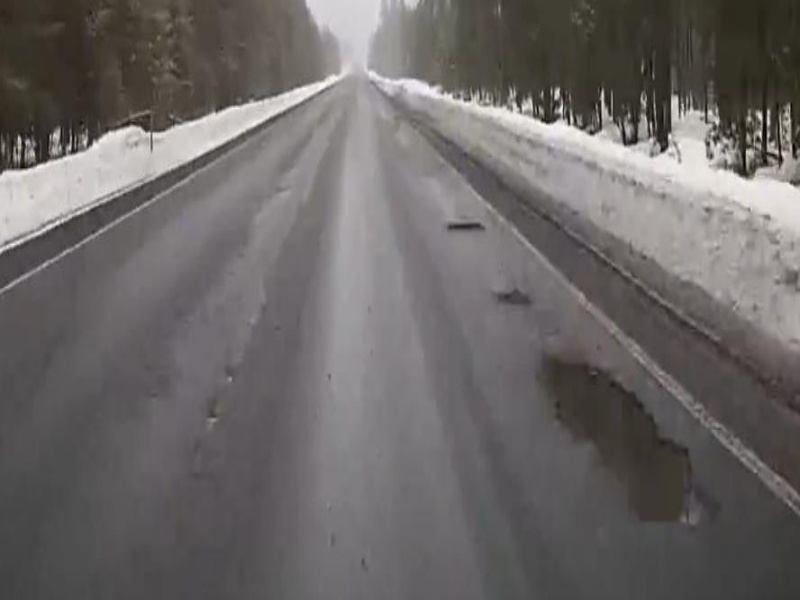pothole: (542, 353, 724, 532), (444, 220, 486, 236)
